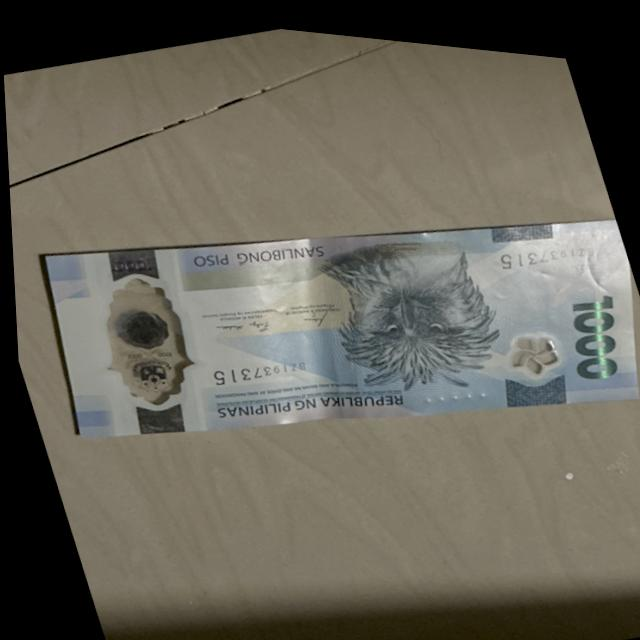clear_window: (83, 247, 209, 421)
eagle: (309, 198, 516, 414)
sampaguita: (490, 312, 573, 383)
serial_number: (483, 211, 605, 273)
